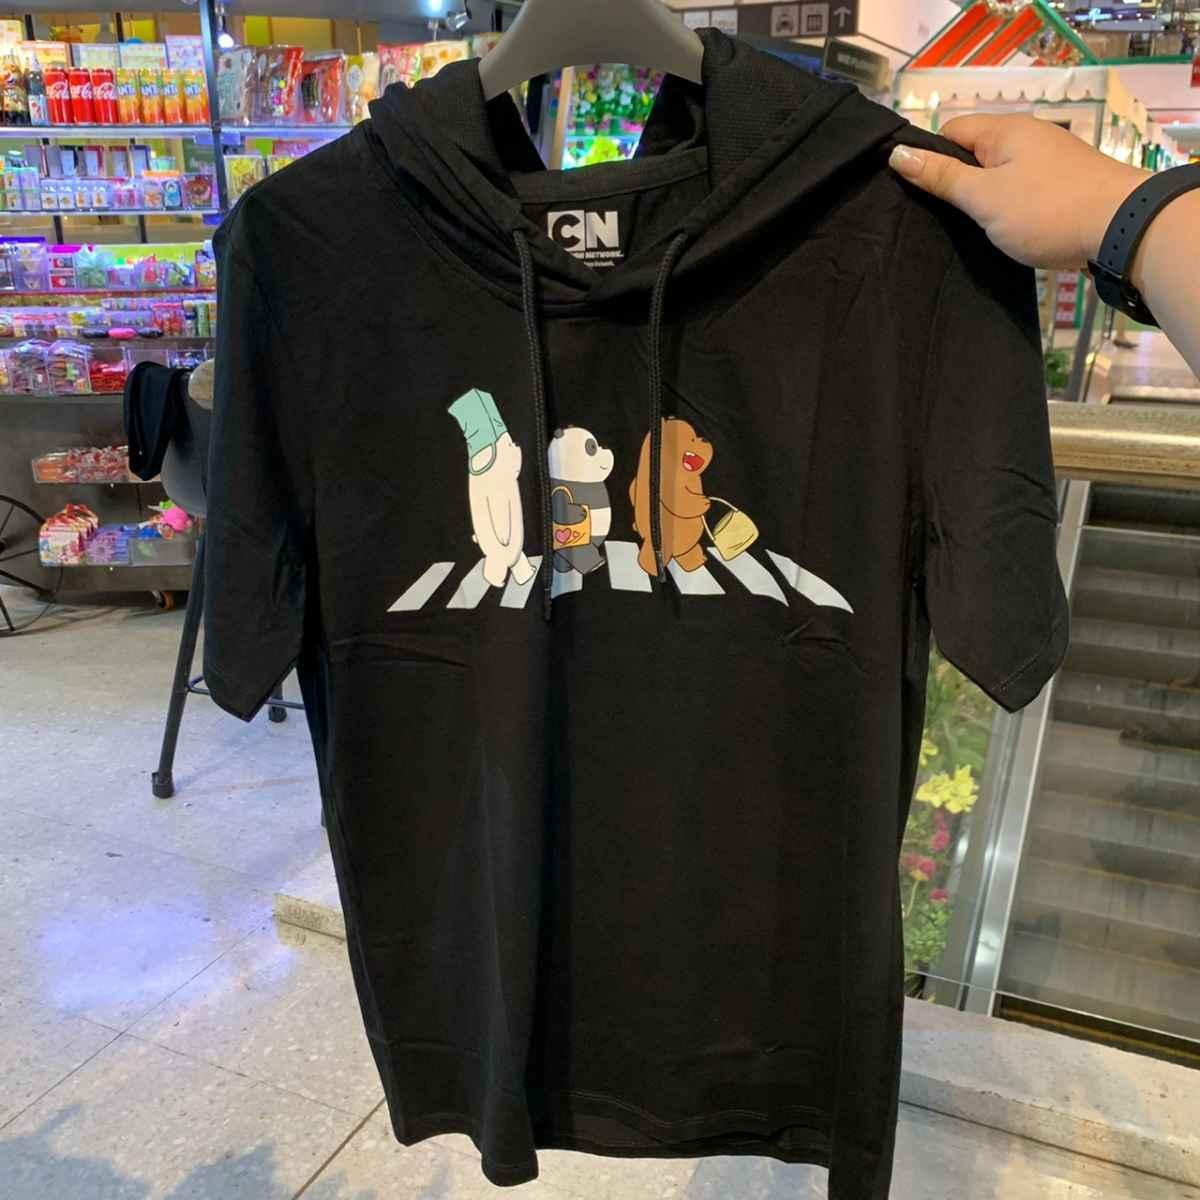Tshirt: (201, 93, 1075, 1200)
